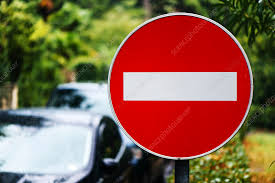No entry: (111, 14, 254, 160)
